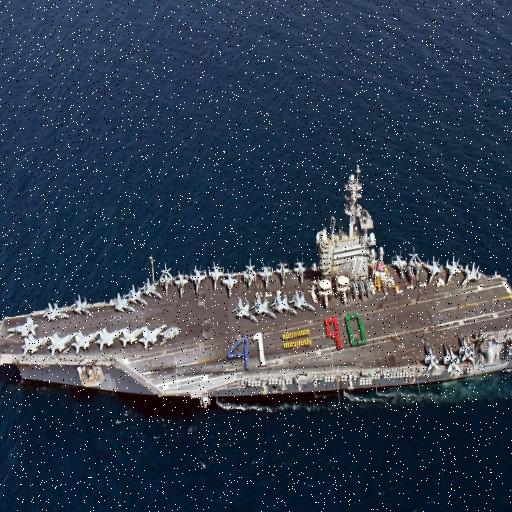Portanaves: (1, 165, 512, 419)
